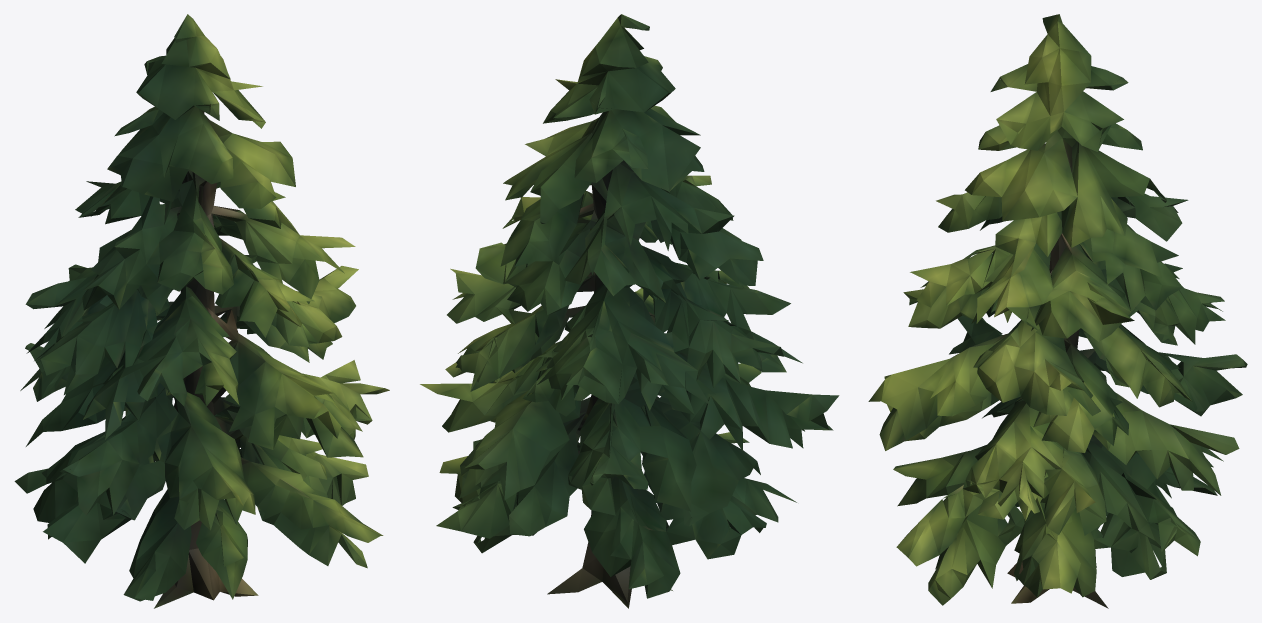
Rendered from conifer-mid.glb.
3 views of the same model, side by side, from view 1: azimuth 30°, elevation 25°; view 2: azimuth 150°, elevation 25°; view 3: azimuth 270°, elevation 25° (orthographic).
Visible parts, largest first — view 1: tripo_node_6fff399c-6473-4448-b0a0-782128416524; view 2: tripo_node_6fff399c-6473-4448-b0a0-782128416524; view 3: tripo_node_6fff399c-6473-4448-b0a0-782128416524.
Part boxes in pixels (x1,y1,x2,y2): tripo_node_6fff399c-6473-4448-b0a0-782128416524: (14,14,389,608); tripo_node_6fff399c-6473-4448-b0a0-782128416524: (420,14,839,608); tripo_node_6fff399c-6473-4448-b0a0-782128416524: (868,14,1247,608).
Size of the model in its own units: 0.6249 by 0.9615 by 0.577.
Materials: 1 (1 with a texture image).
